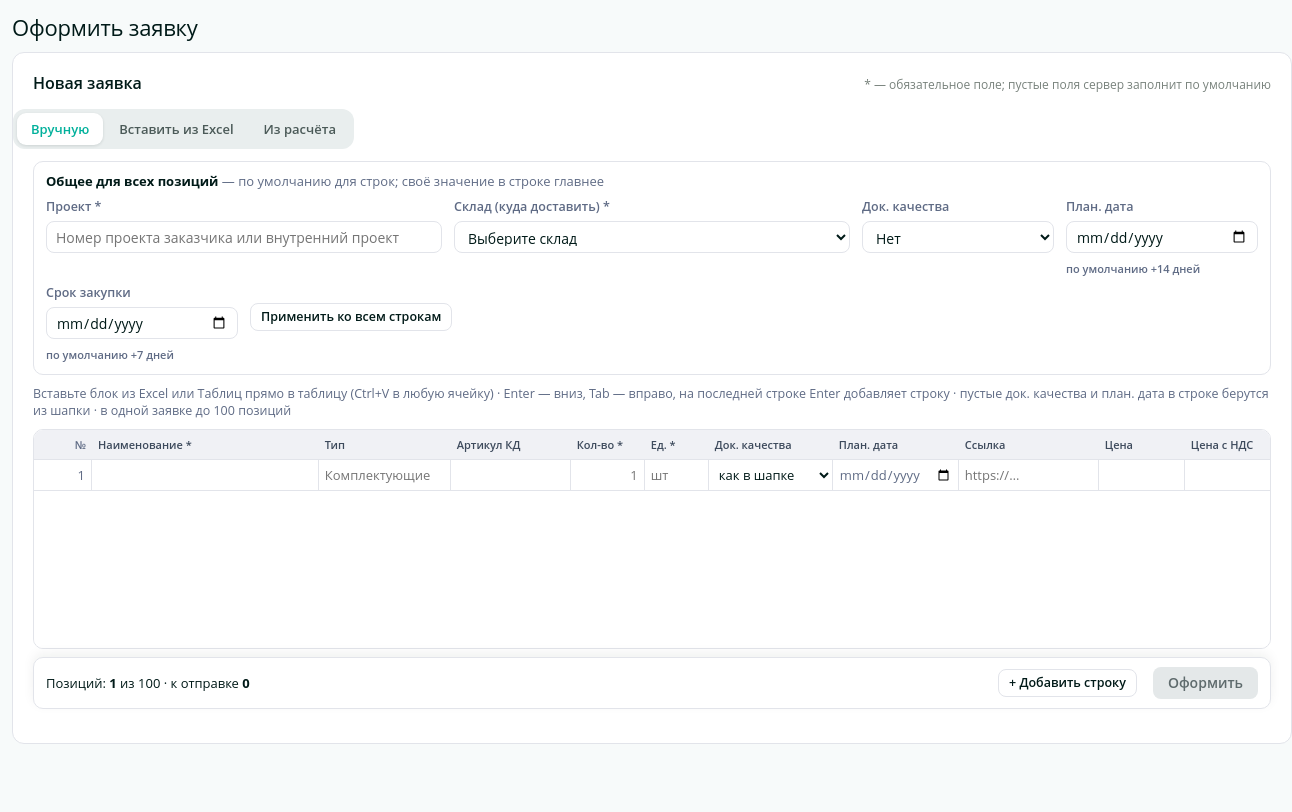
request form › requires a project and a warehouse and sends nothing until they are chosen
Expected: the dropdown labelled "Проект" is shown, [46, 221, 442, 253]
In the dropdown named "Наименование, строка 1": (205, 475) [92, 460, 318, 490], type "Кабель"
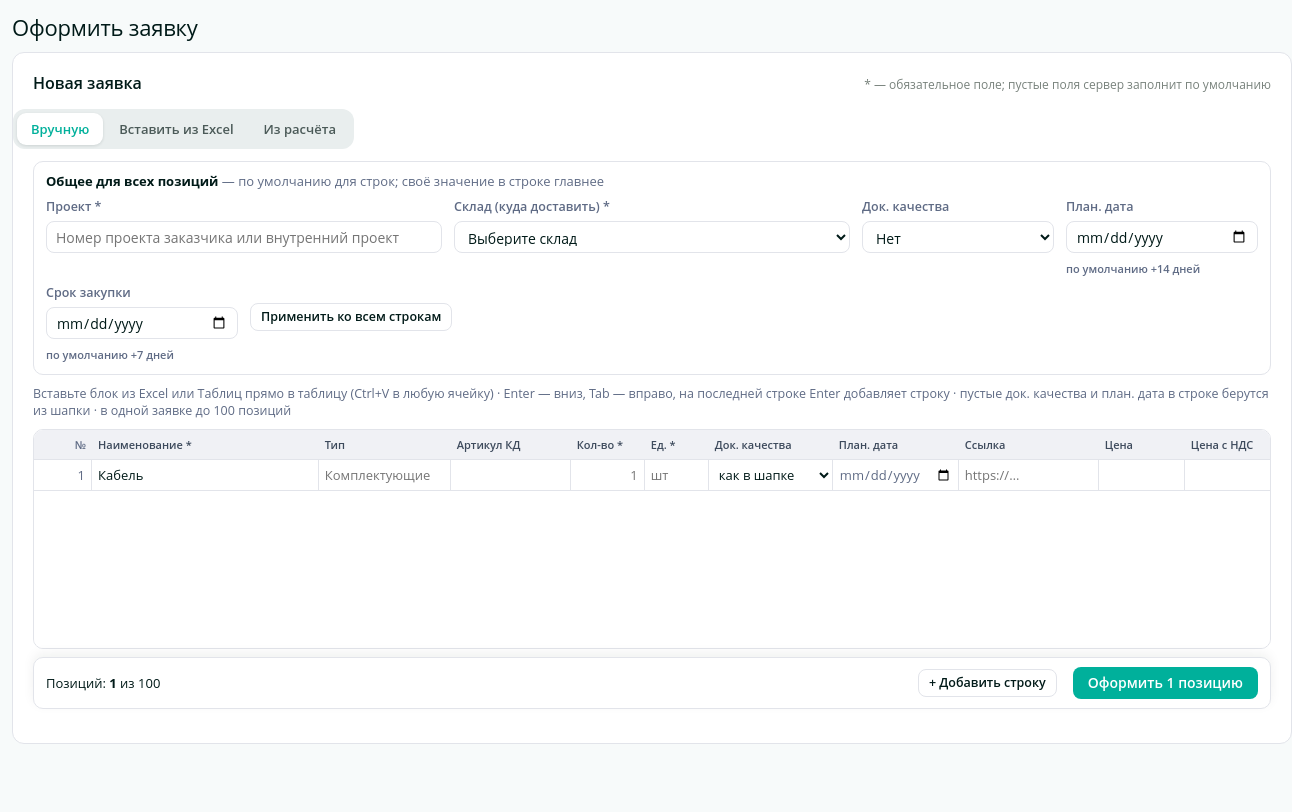
In the field named "Кол-во, строка 1": (607, 475) [571, 460, 644, 490], type "2"
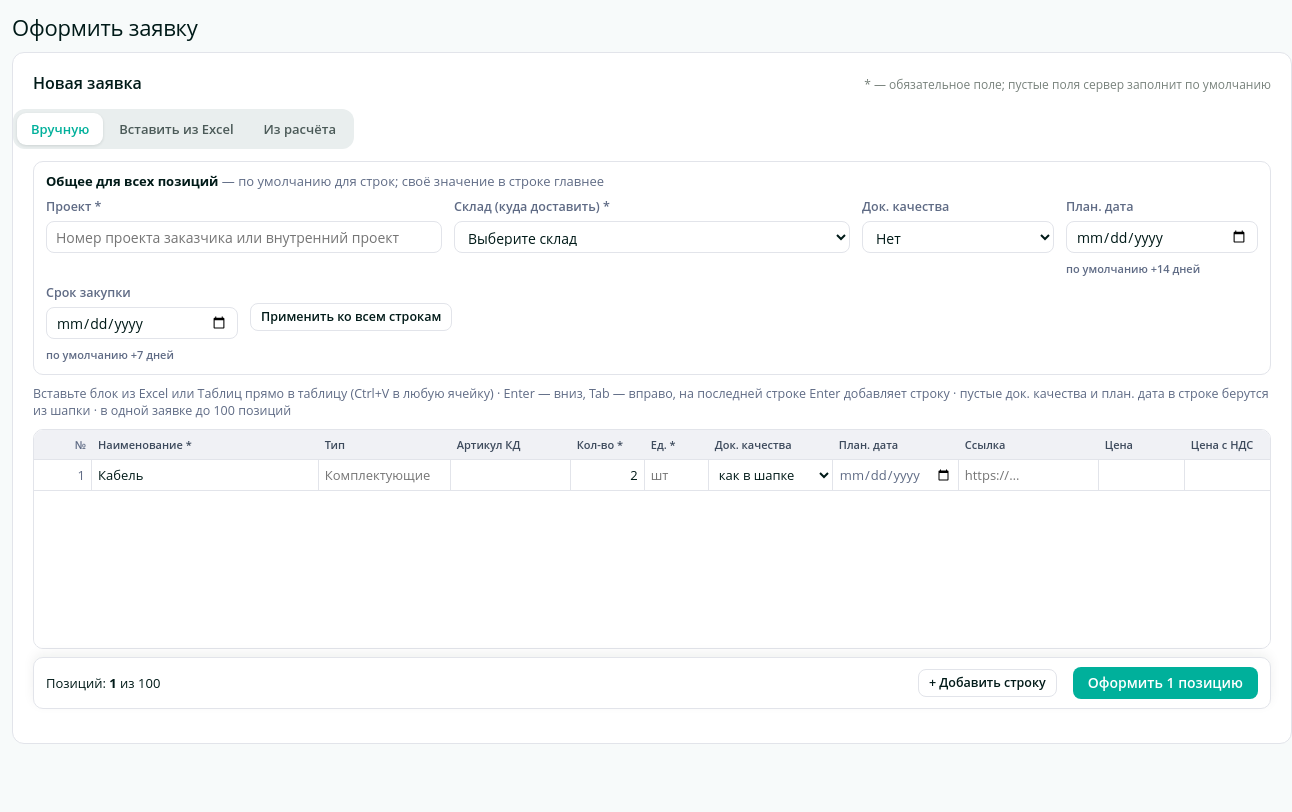
Focus the dropdown named "Ед., строка 1": (676, 475) [645, 460, 708, 490]
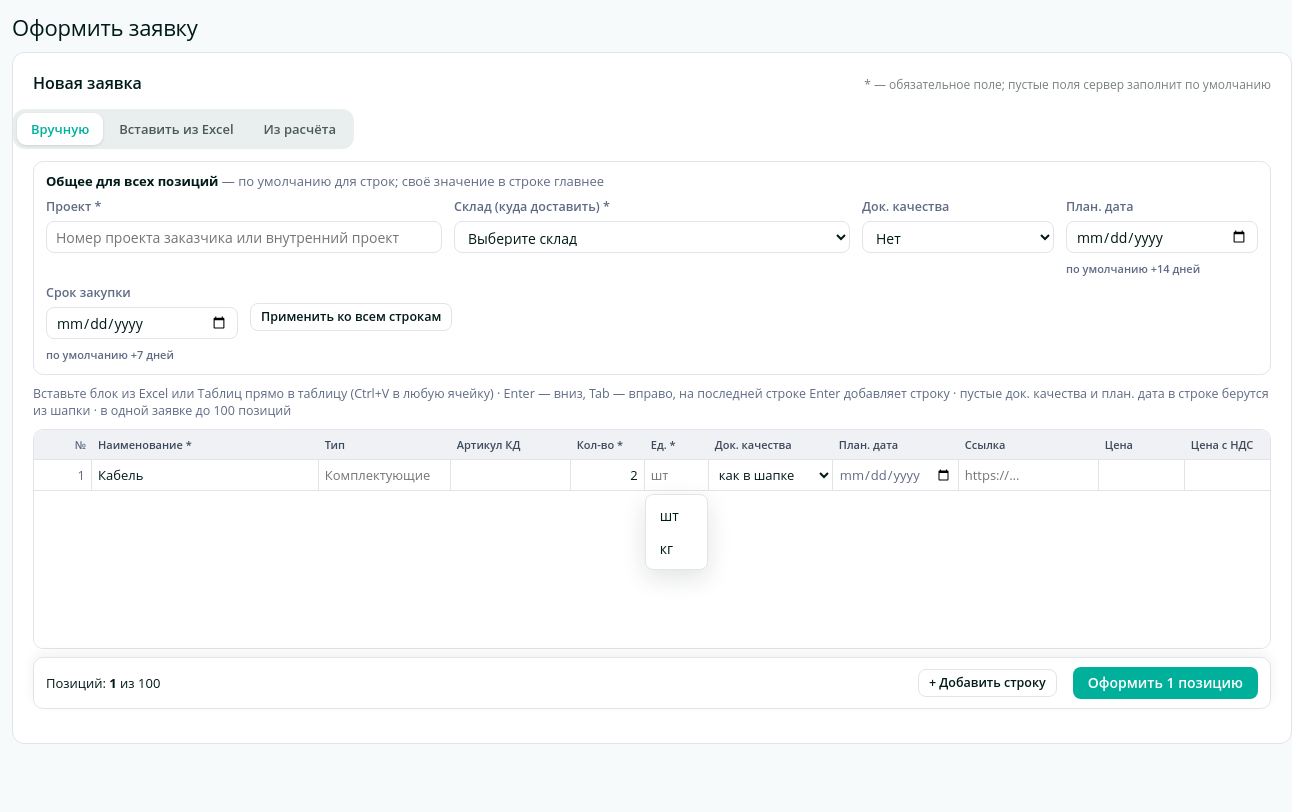
Press the mouse on the option "шт": (669, 516) [660, 506, 679, 525]
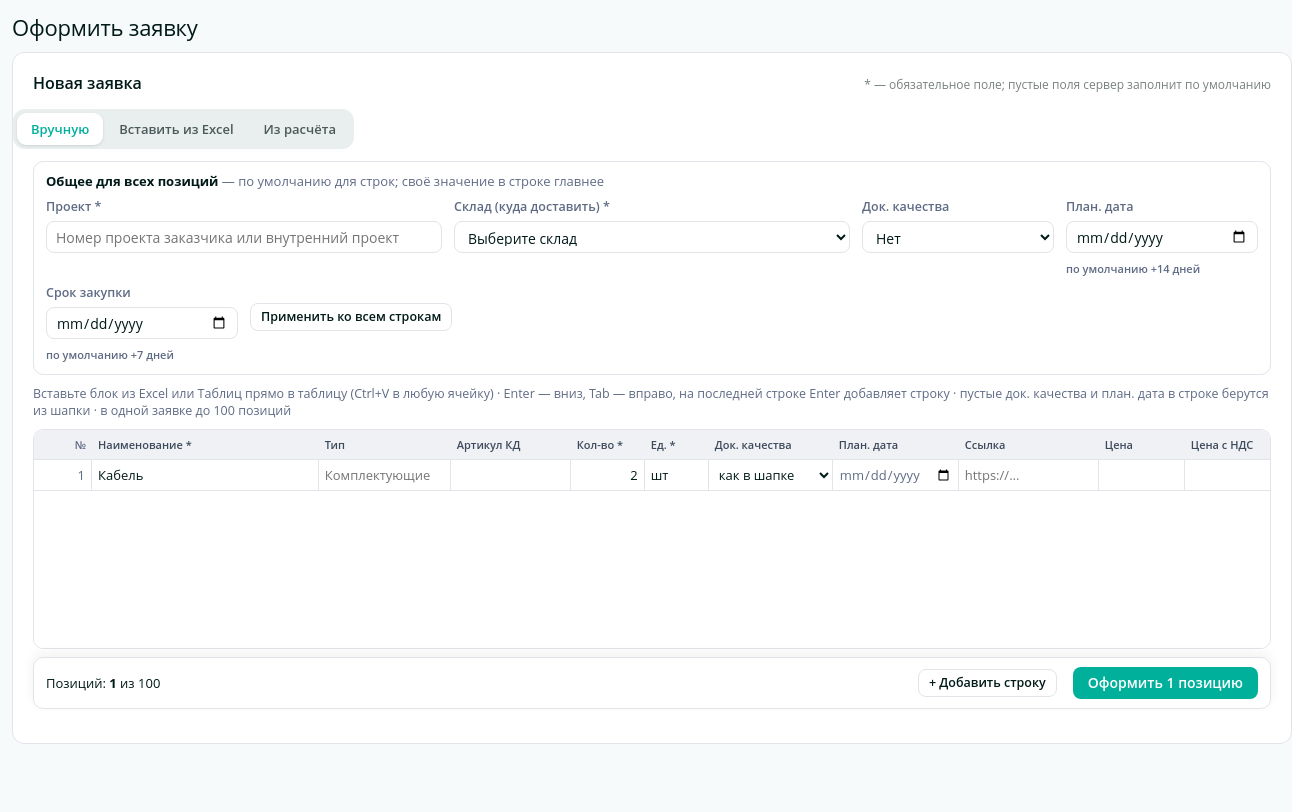
Click the button "Оформить 1 позицию": (1165, 683) [1073, 667, 1258, 699]
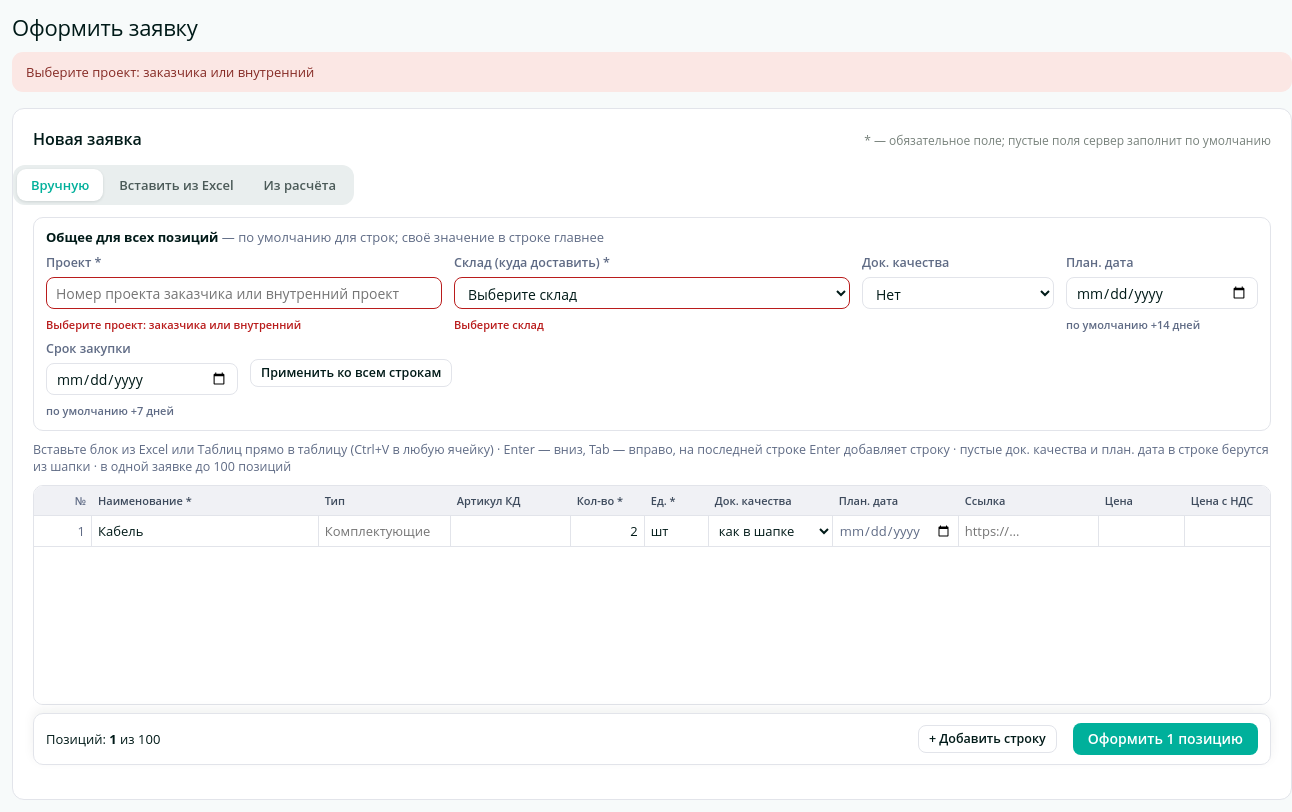
Expected: the 1st message "Выберите проект: заказчика или внутренний" is shown, [12, 52, 1291, 92]
Expected: the message "Выберите склад" is shown, [454, 317, 544, 332]
